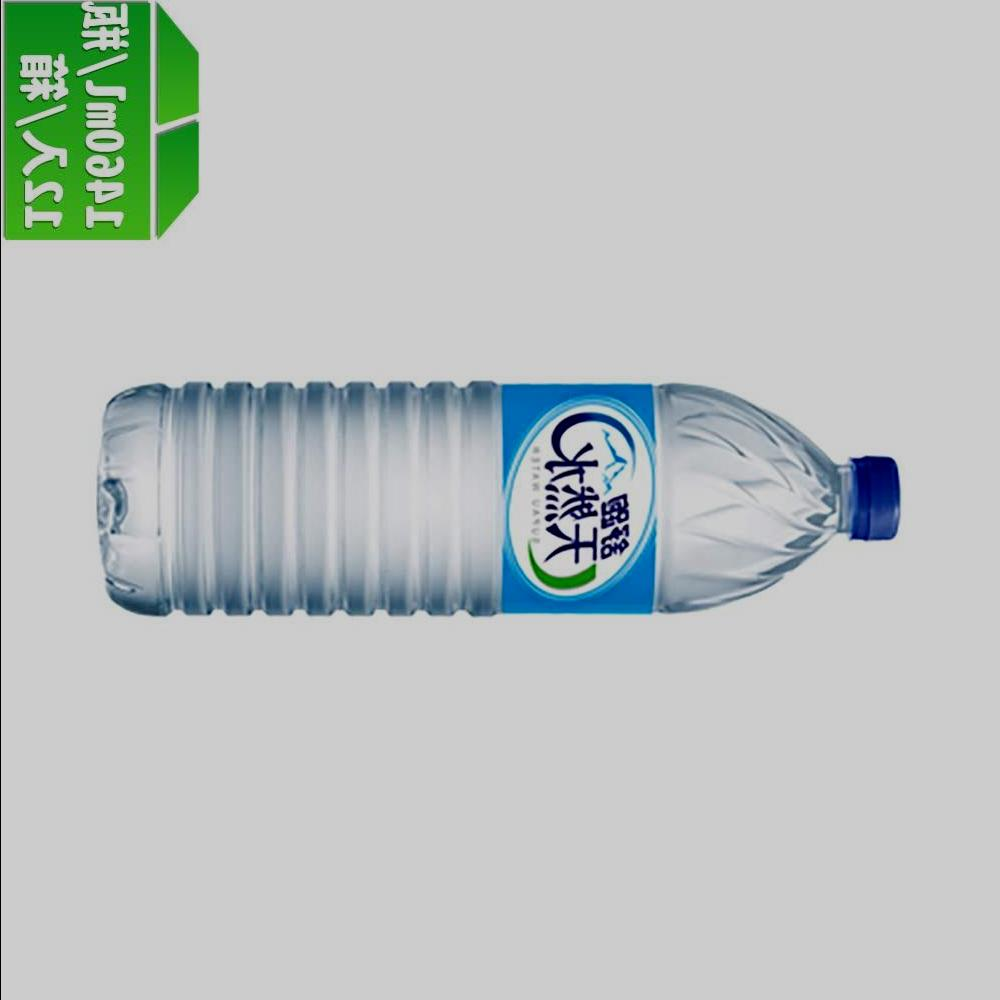bottle: (84, 375, 908, 622)
